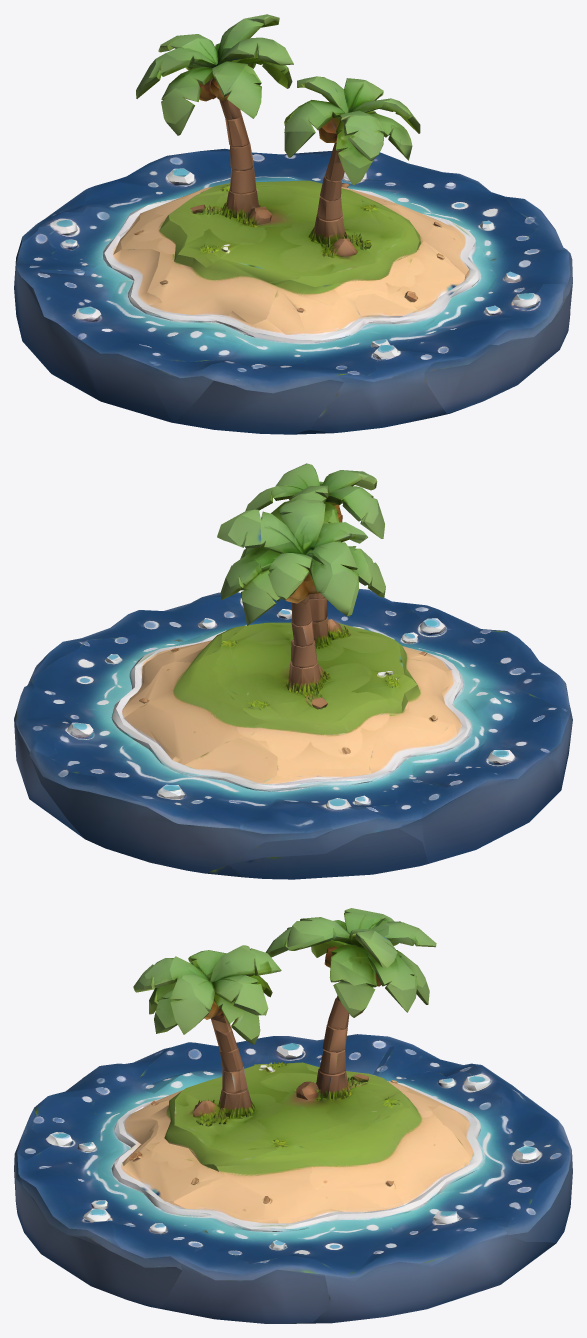
The model's file is hy3_island_dec.glb.
3 renders of one model, top to bottom at view 1: azimuth 30°, elevation 25°; view 2: azimuth 150°, elevation 25°; view 3: azimuth 270°, elevation 25°, orthographic.
Parts seen in each view (by area): view 1: node_0; view 2: node_0; view 3: node_0.
Boxes of the visible parts, bbox=[...] form: node_0: bbox=[14, 14, 572, 434]; node_0: bbox=[14, 463, 572, 879]; node_0: bbox=[14, 908, 572, 1323].
Bounding box in the file's own units: 1.06 × 0.5755 × 1.06.
1 material, 1 textured.
